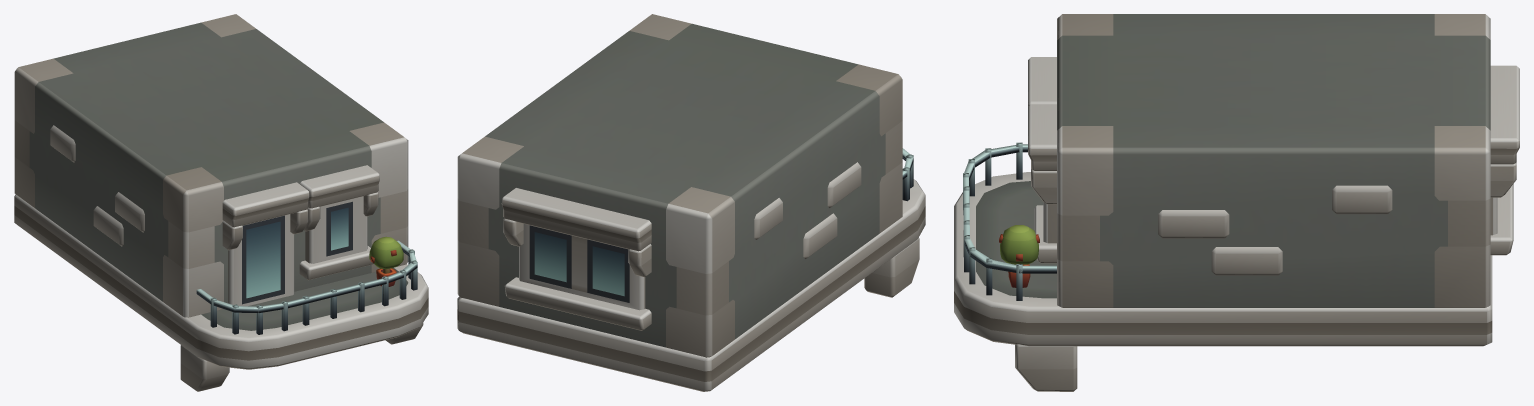
The model's file is appartment_type3_balcony_grey.fbx.
3 renders of one model, left to right at view 1: azimuth 30°, elevation 25°; view 2: azimuth 150°, elevation 25°; view 3: azimuth 270°, elevation 25°, orthographic. The views are drawn at different scales.
Parts seen in each view (by area): view 1: appartment_type3_balcony_grey; view 2: appartment_type3_balcony_grey; view 3: appartment_type3_balcony_grey.
Boxes of the visible parts, x1,y1,x2,y2 form: appartment_type3_balcony_grey: (14,14,428,391); appartment_type3_balcony_grey: (457,14,925,391); appartment_type3_balcony_grey: (954,14,1519,391).
Size of the model in its own units: 628 by 505 by 1056.
